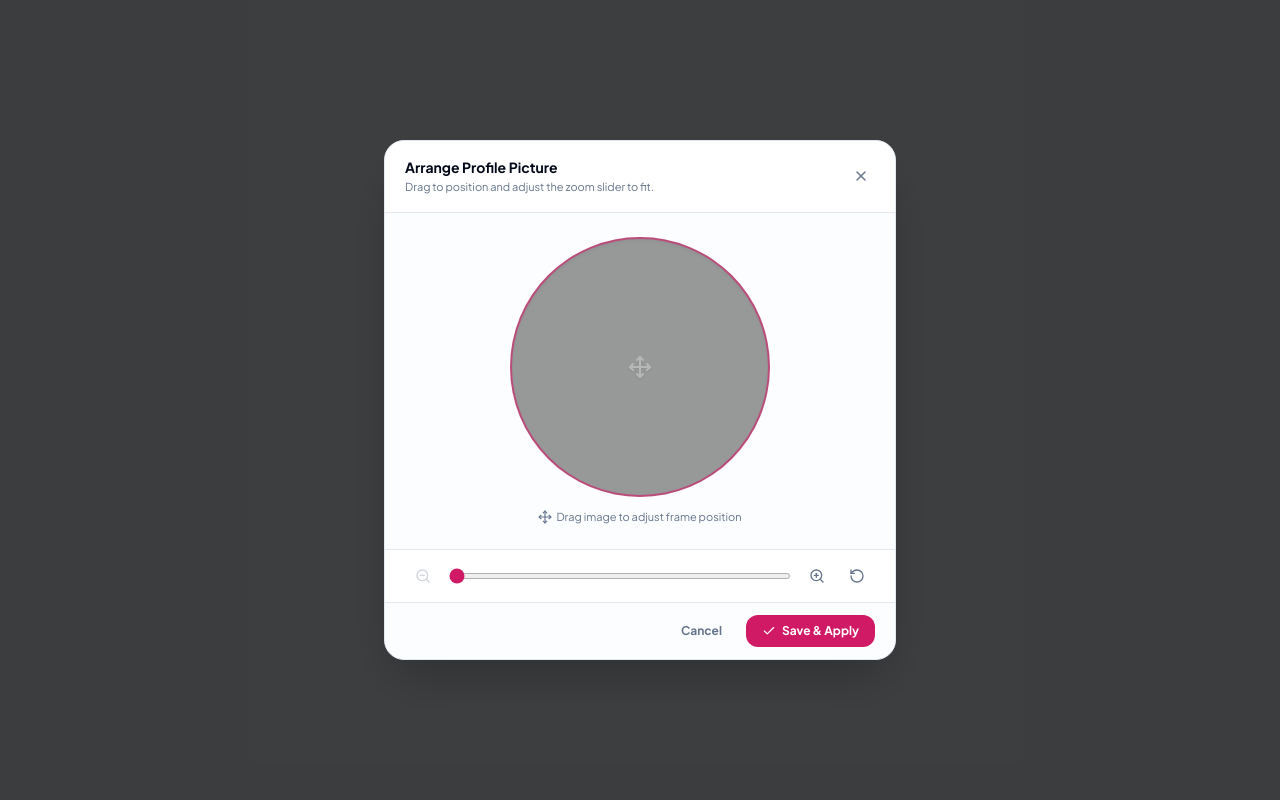
Scenario: ImageCropModal Component › adjusts zoom when slider changes and allows reset
Set the slider to "2" at [620, 576], box top-left (449, 573), bottom-right (791, 579)
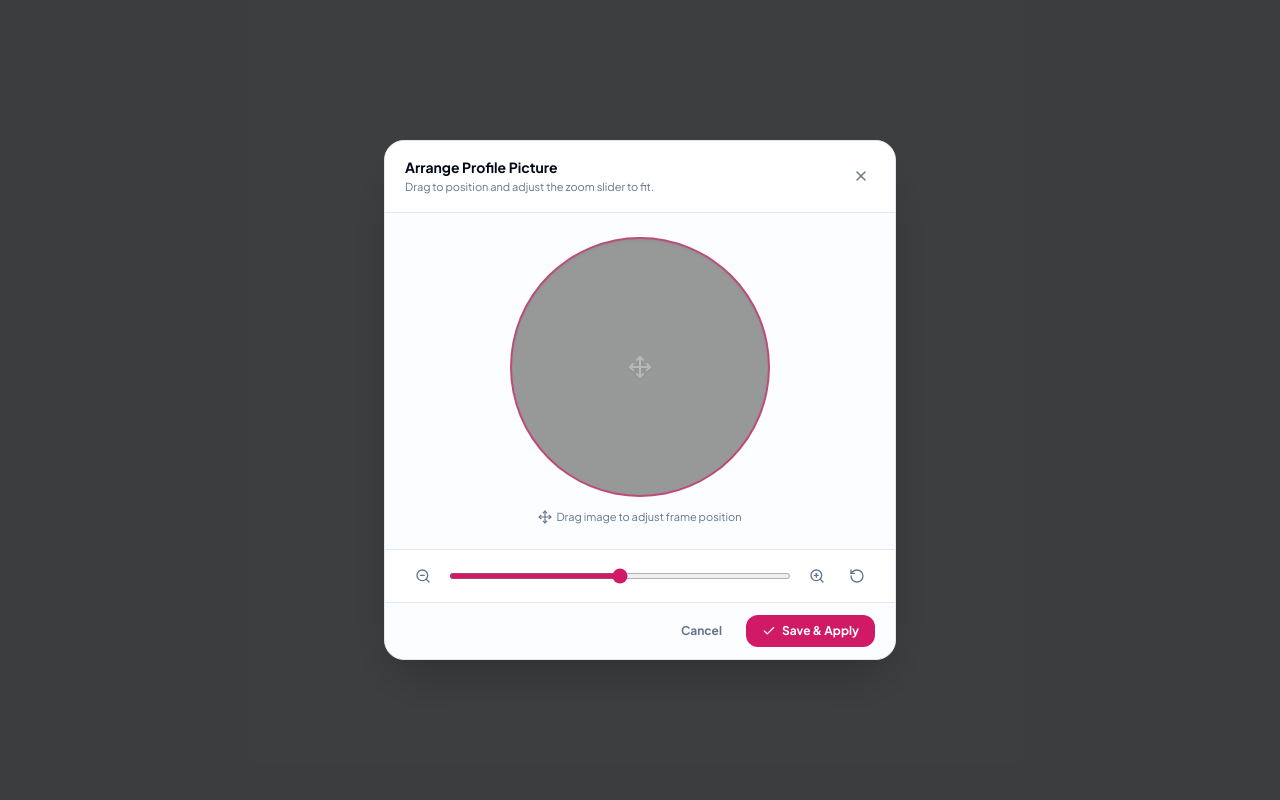
Click the button titled "Reset position and zoom" at [857, 576], box top-left (843, 562), bottom-right (871, 590)
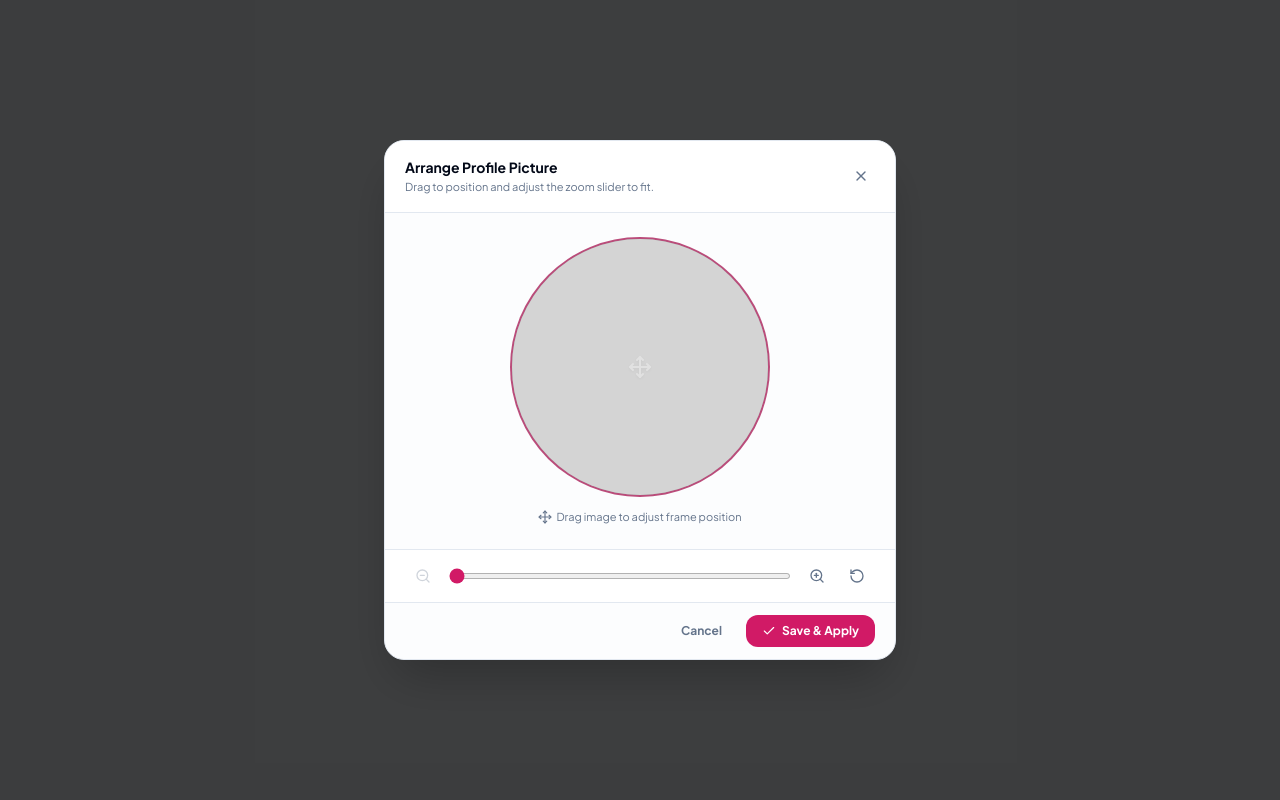
expect the slider holds "1": met, box top-left (449, 573), bottom-right (791, 579)
